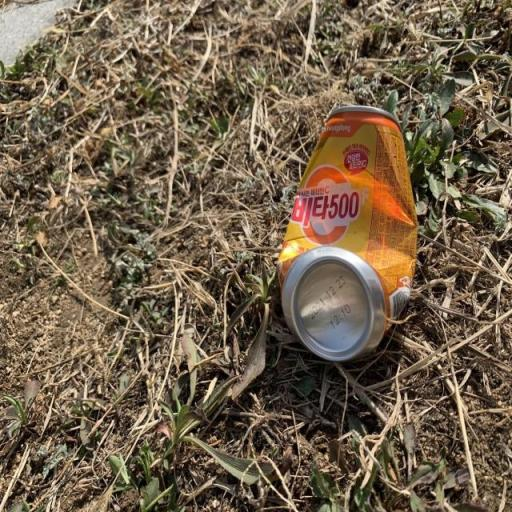metal: (258, 94, 436, 395)
